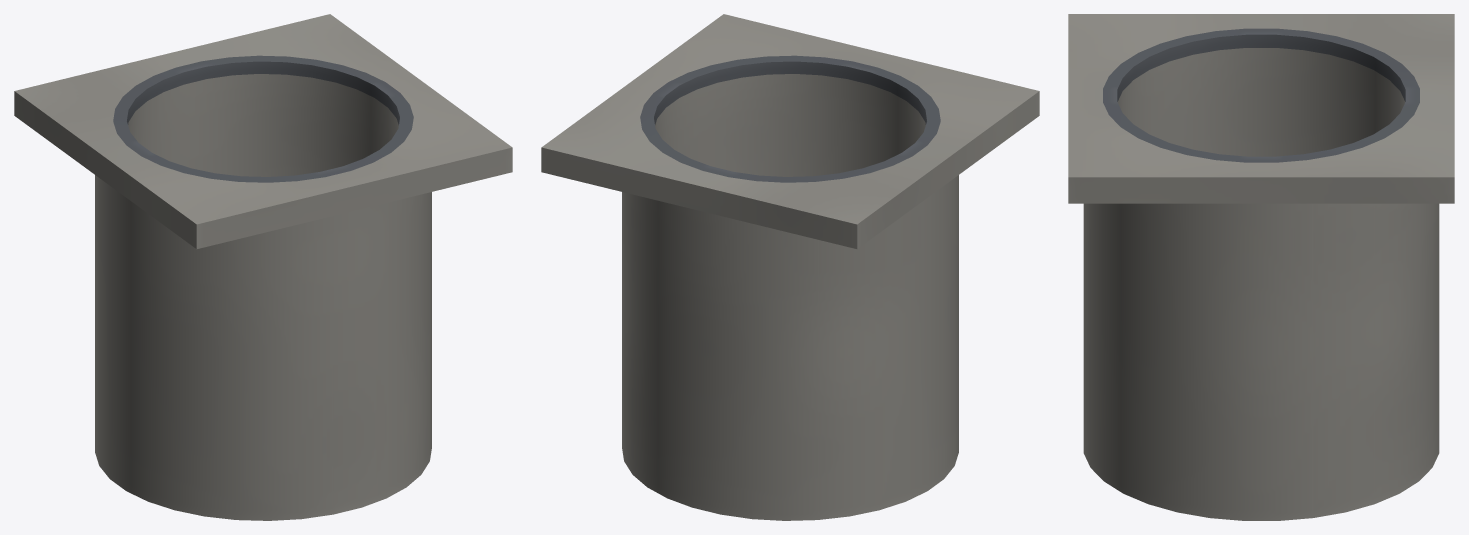
The model's file is frame.obj.
3 views of the same model, side by side, from view 1: azimuth 30°, elevation 25°; view 2: azimuth 150°, elevation 25°; view 3: azimuth 270°, elevation 25° (orthographic). The views are drawn at different scales.
Parts seen in each view (by area): view 1: pump_manhole_cover__frame__shaft, pump_manhole_cover__frame__top, pump_manhole_cover__frame__rim; view 2: pump_manhole_cover__frame__shaft, pump_manhole_cover__frame__top, pump_manhole_cover__frame__rim; view 3: pump_manhole_cover__frame__shaft, pump_manhole_cover__frame__top, pump_manhole_cover__frame__rim.
Boxes of the visible parts, <box> form: pump_manhole_cover__frame__shaft: <box>95,74,431,520</box>; pump_manhole_cover__frame__top: <box>14,14,512,248</box>; pump_manhole_cover__frame__rim: <box>113,55,413,182</box>; pump_manhole_cover__frame__shaft: <box>622,74,958,520</box>; pump_manhole_cover__frame__top: <box>541,14,1039,248</box>; pump_manhole_cover__frame__rim: <box>640,55,940,182</box>; pump_manhole_cover__frame__shaft: <box>1083,48,1439,520</box>; pump_manhole_cover__frame__top: <box>1068,14,1454,203</box>; pump_manhole_cover__frame__rim: <box>1103,28,1419,162</box>.
Size of the model in its own units: 1 by 1 by 1.
